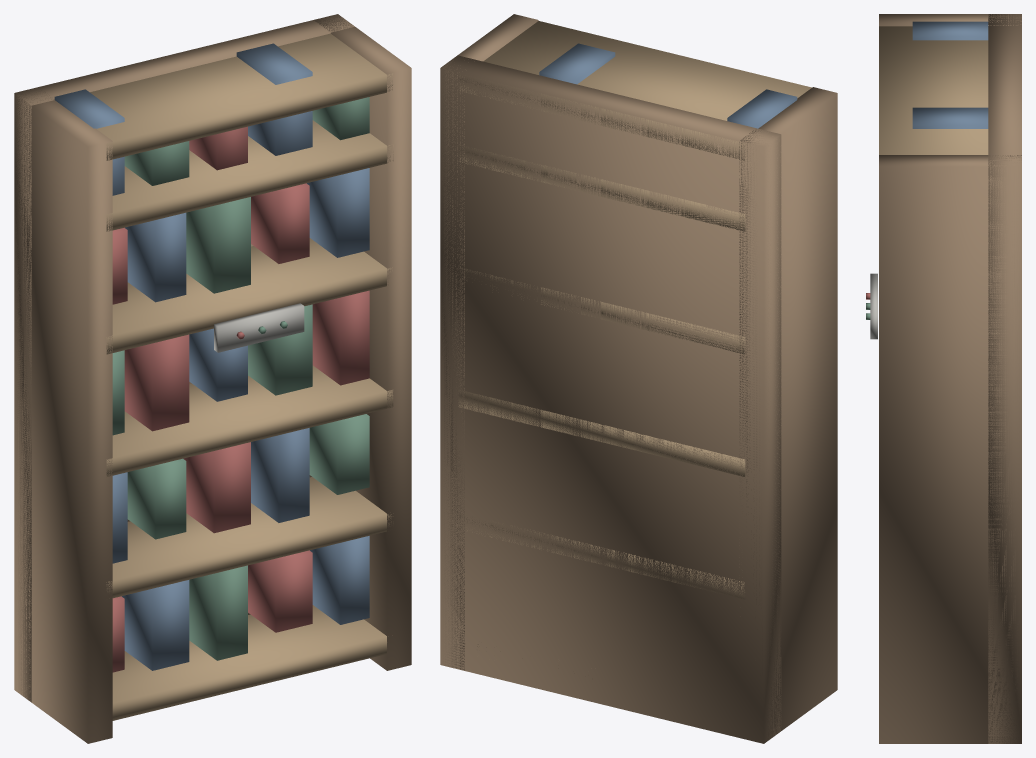
Rendered from library_stack_bay__deep.glb.
3 views of the same model, side by side, from view 1: azimuth 30°, elevation 25°; view 2: azimuth 150°, elevation 25°; view 3: azimuth 270°, elevation 25° (orthographic). The views are drawn at different scales.
Parts seen in each view (by area): view 1: world; view 2: world; view 3: world.
Part boxes in pixels (<box>): world: <box>14,14,411,743</box>; world: <box>440,14,837,743</box>; world: <box>866,14,1021,743</box>.
Size of the model in its own units: 1.05 by 1.86 by 0.4526.
